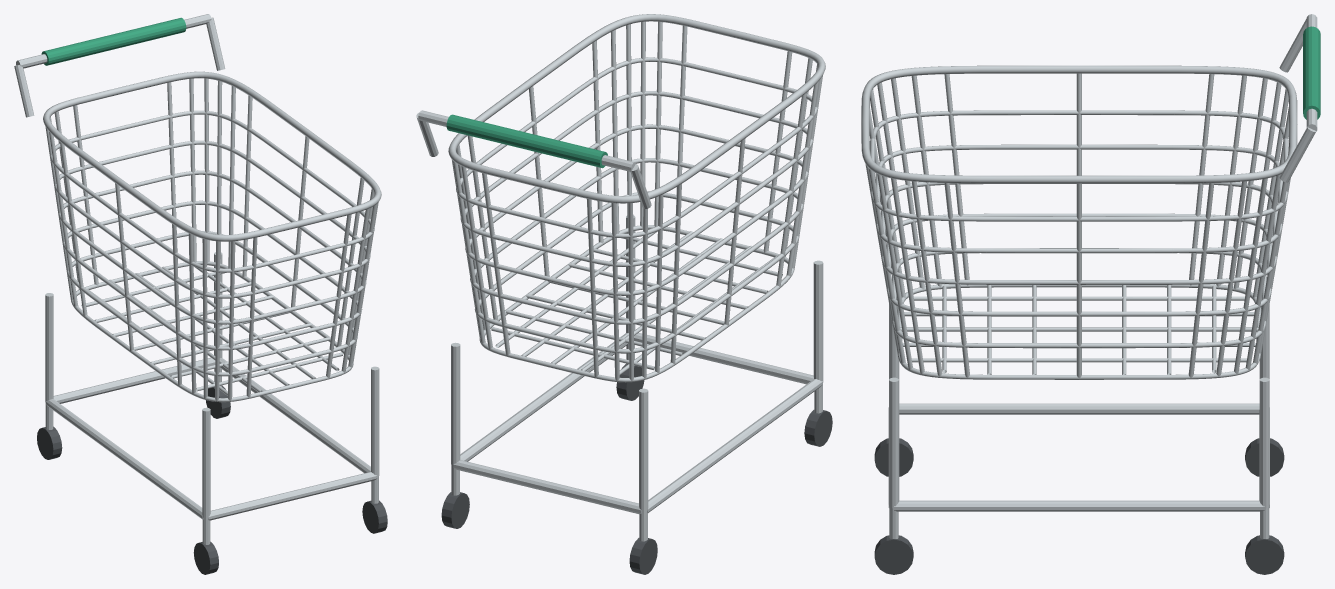
File: trolley.glb
3 views of the same model, side by side, from view 1: azimuth 30°, elevation 25°; view 2: azimuth 150°, elevation 25°; view 3: azimuth 270°, elevation 25° (orthographic). The views are drawn at different scales.
Parts seen in each view (by area): view 1: Trolley; view 2: Trolley; view 3: Trolley.
Boxes of the visible parts, left/top/right/bottom form: Trolley: left=14, top=14, right=387, bottom=574; Trolley: left=416, top=14, right=832, bottom=574; Trolley: left=861, top=14, right=1320, bottom=574.
Size of the model in its own units: 0.5809 by 1.09 by 0.988.
